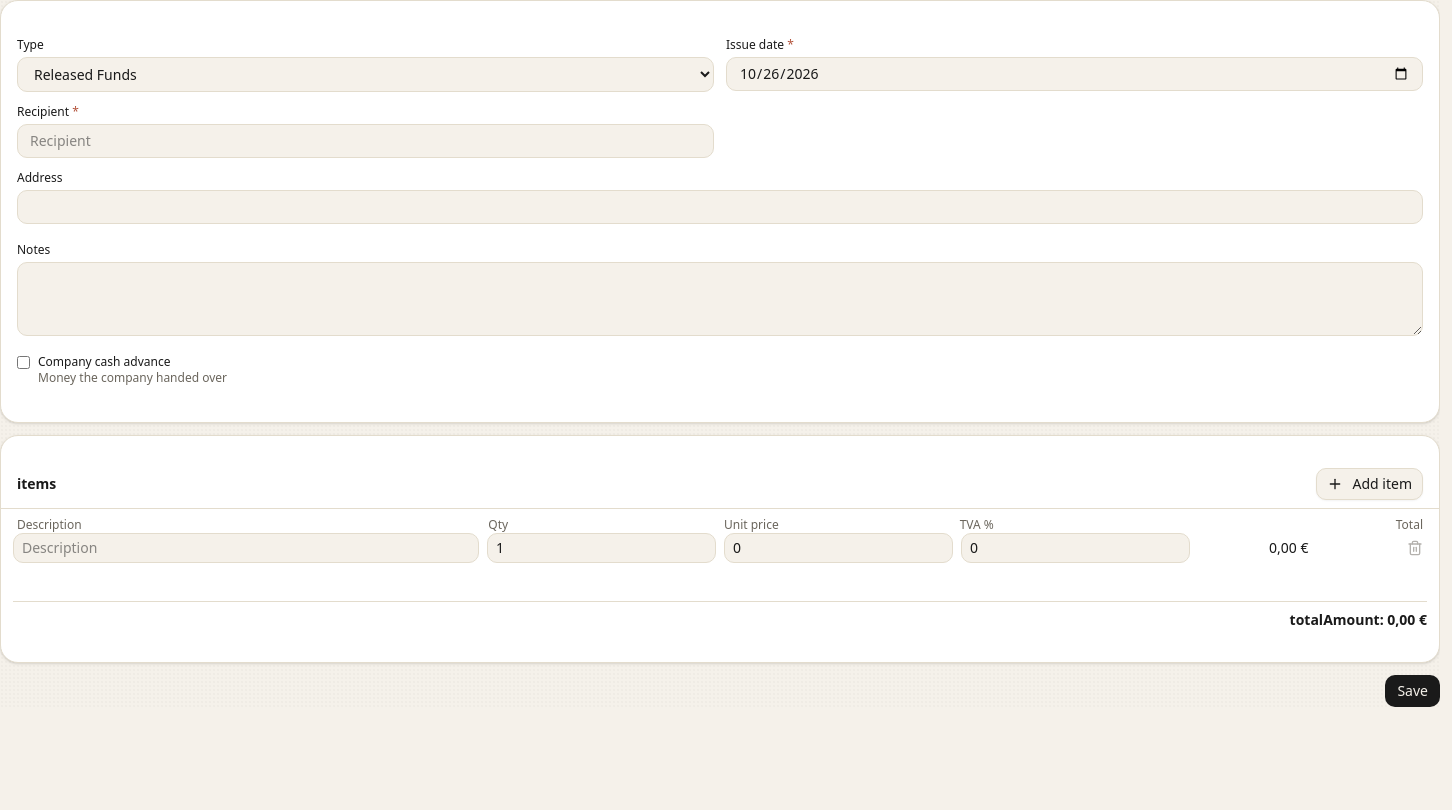
Test: InvoiceForm — company cash advance flag › hides the checkbox after switching away from released_funds
Click the checkbox with test id "cash-advance-checkbox" at (24, 362), box [17,356,30,369]
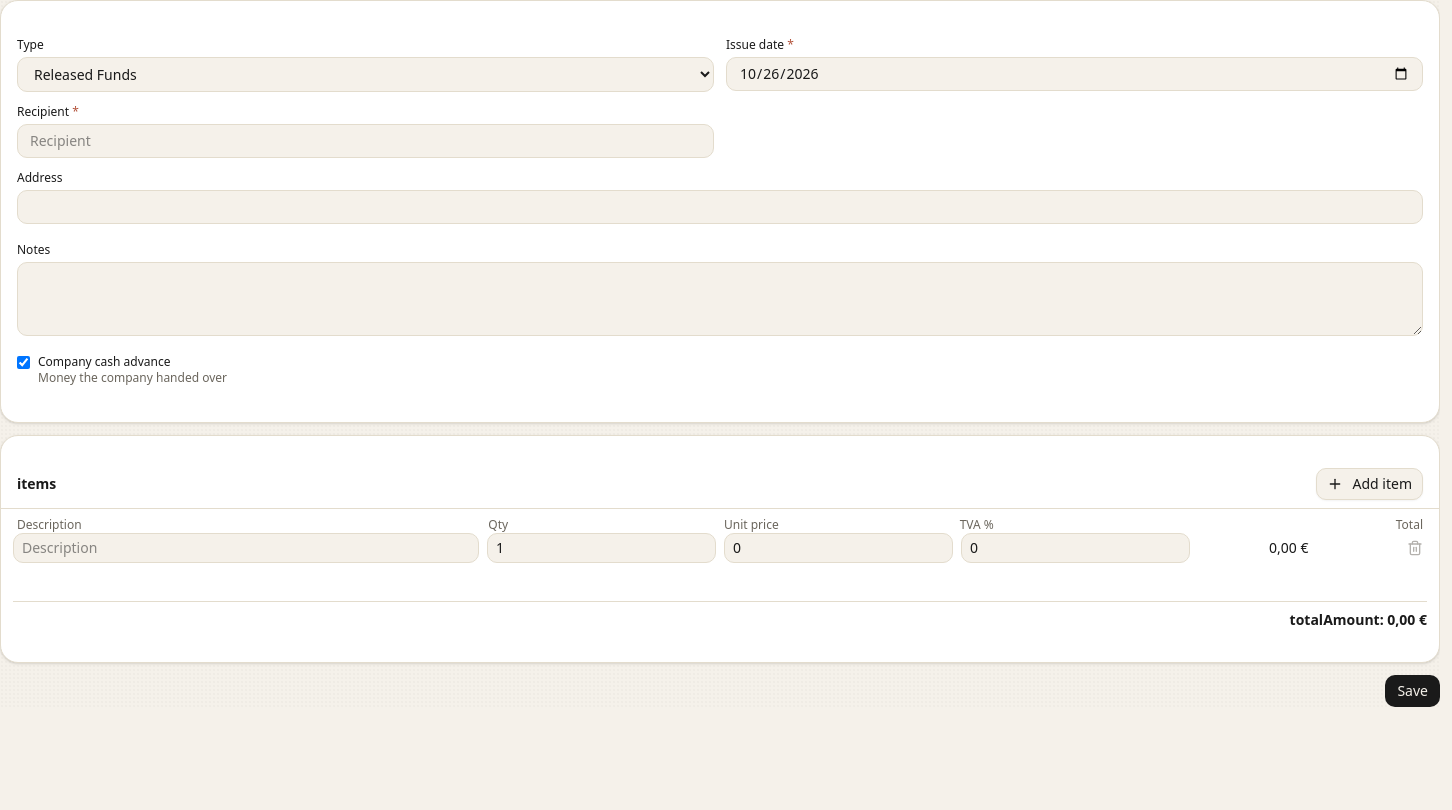
Select "Others" in the dropdown at (366, 74), box [17,57,714,92]
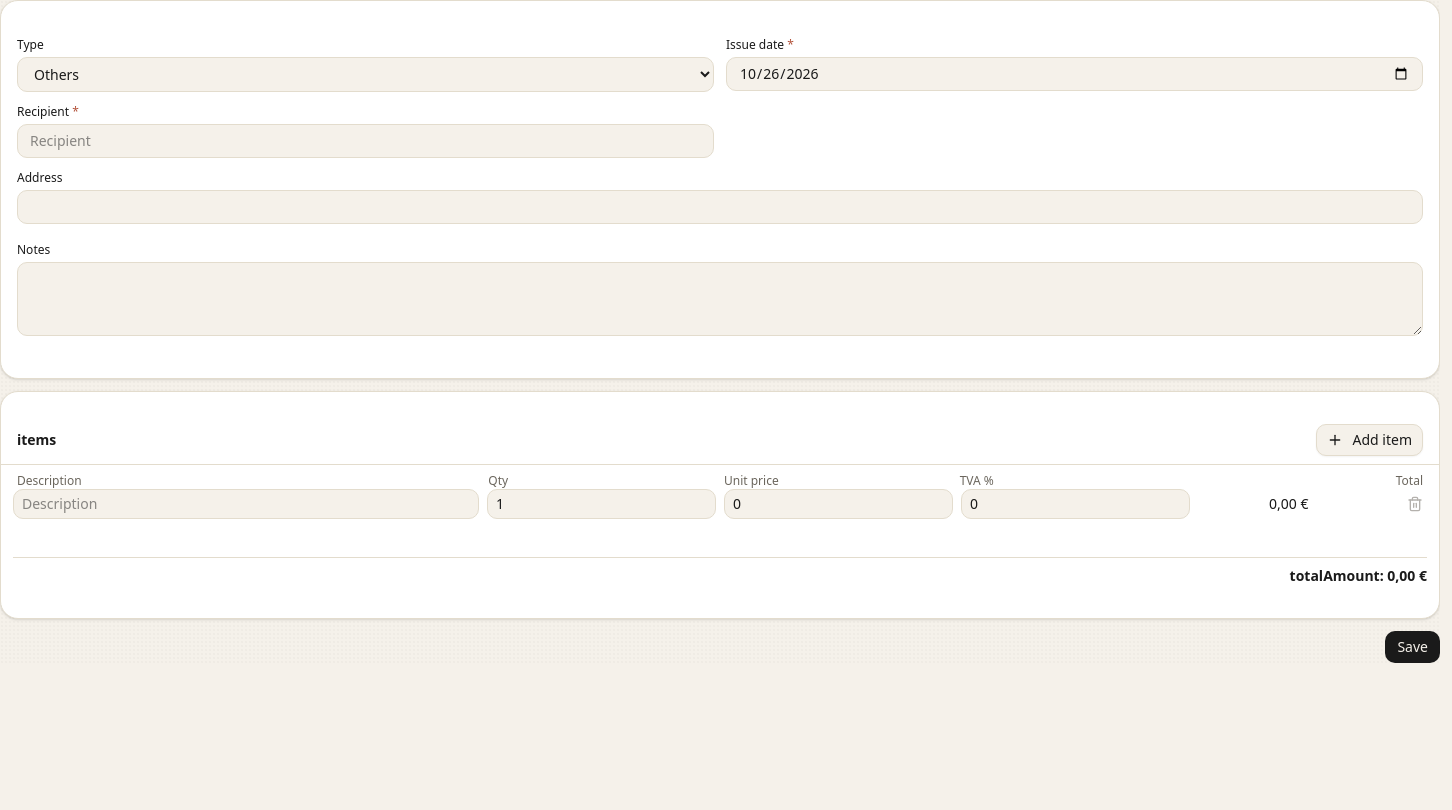
Now the checkbox with test id "cash-advance-checkbox" is gone
